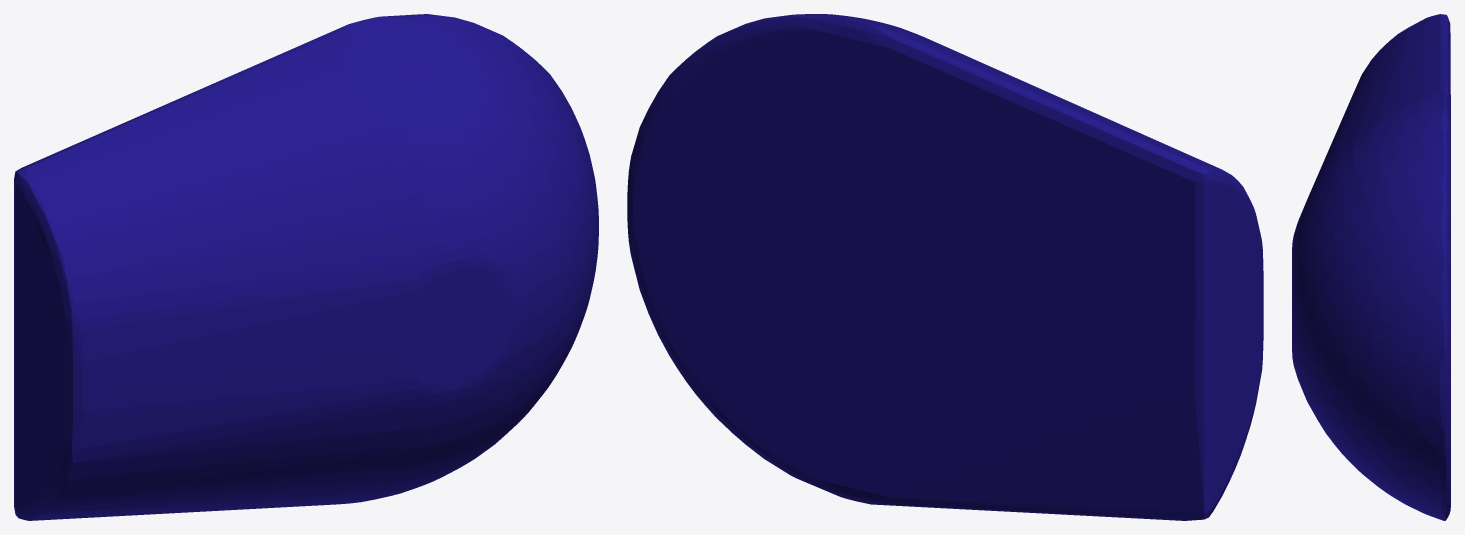
The model's file is left_elbow_link_part_20.obj.
3 views of the same model, side by side, from view 1: azimuth 30°, elevation 25°; view 2: azimuth 150°, elevation 25°; view 3: azimuth 270°, elevation 25° (orthographic). The views are drawn at different scales.
Bounding box in the file's own units: 0.0884 × 0.0698 × 0.0251.
